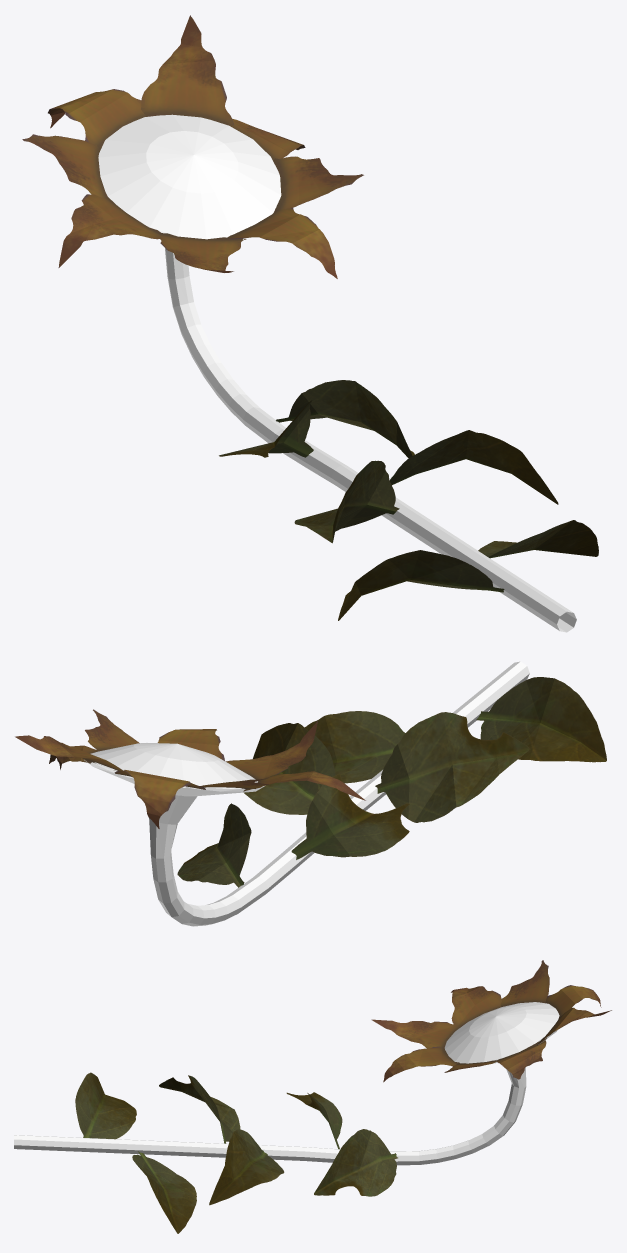
File: FlowerSunDa.fbx
3 views of the same model, one above another, from view 1: azimuth 30°, elevation 25°; view 2: azimuth 150°, elevation 25°; view 3: azimuth 270°, elevation 25° (orthographic). The views are drawn at different scales.
Visible parts, largest first — view 1: w5_gismo_FlowerSunDa; view 2: w5_gismo_FlowerSunDa; view 3: w5_gismo_FlowerSunDa.
Part boxes in pixels (x1,y1,x2,y2): w5_gismo_FlowerSunDa: [22, 15, 598, 632]; w5_gismo_FlowerSunDa: [15, 661, 606, 926]; w5_gismo_FlowerSunDa: [14, 960, 611, 1233].
Bounding box in the file's own units: 0.6713 × 1.61 × 0.6057.
Materials: 2 (1 with a texture image).
